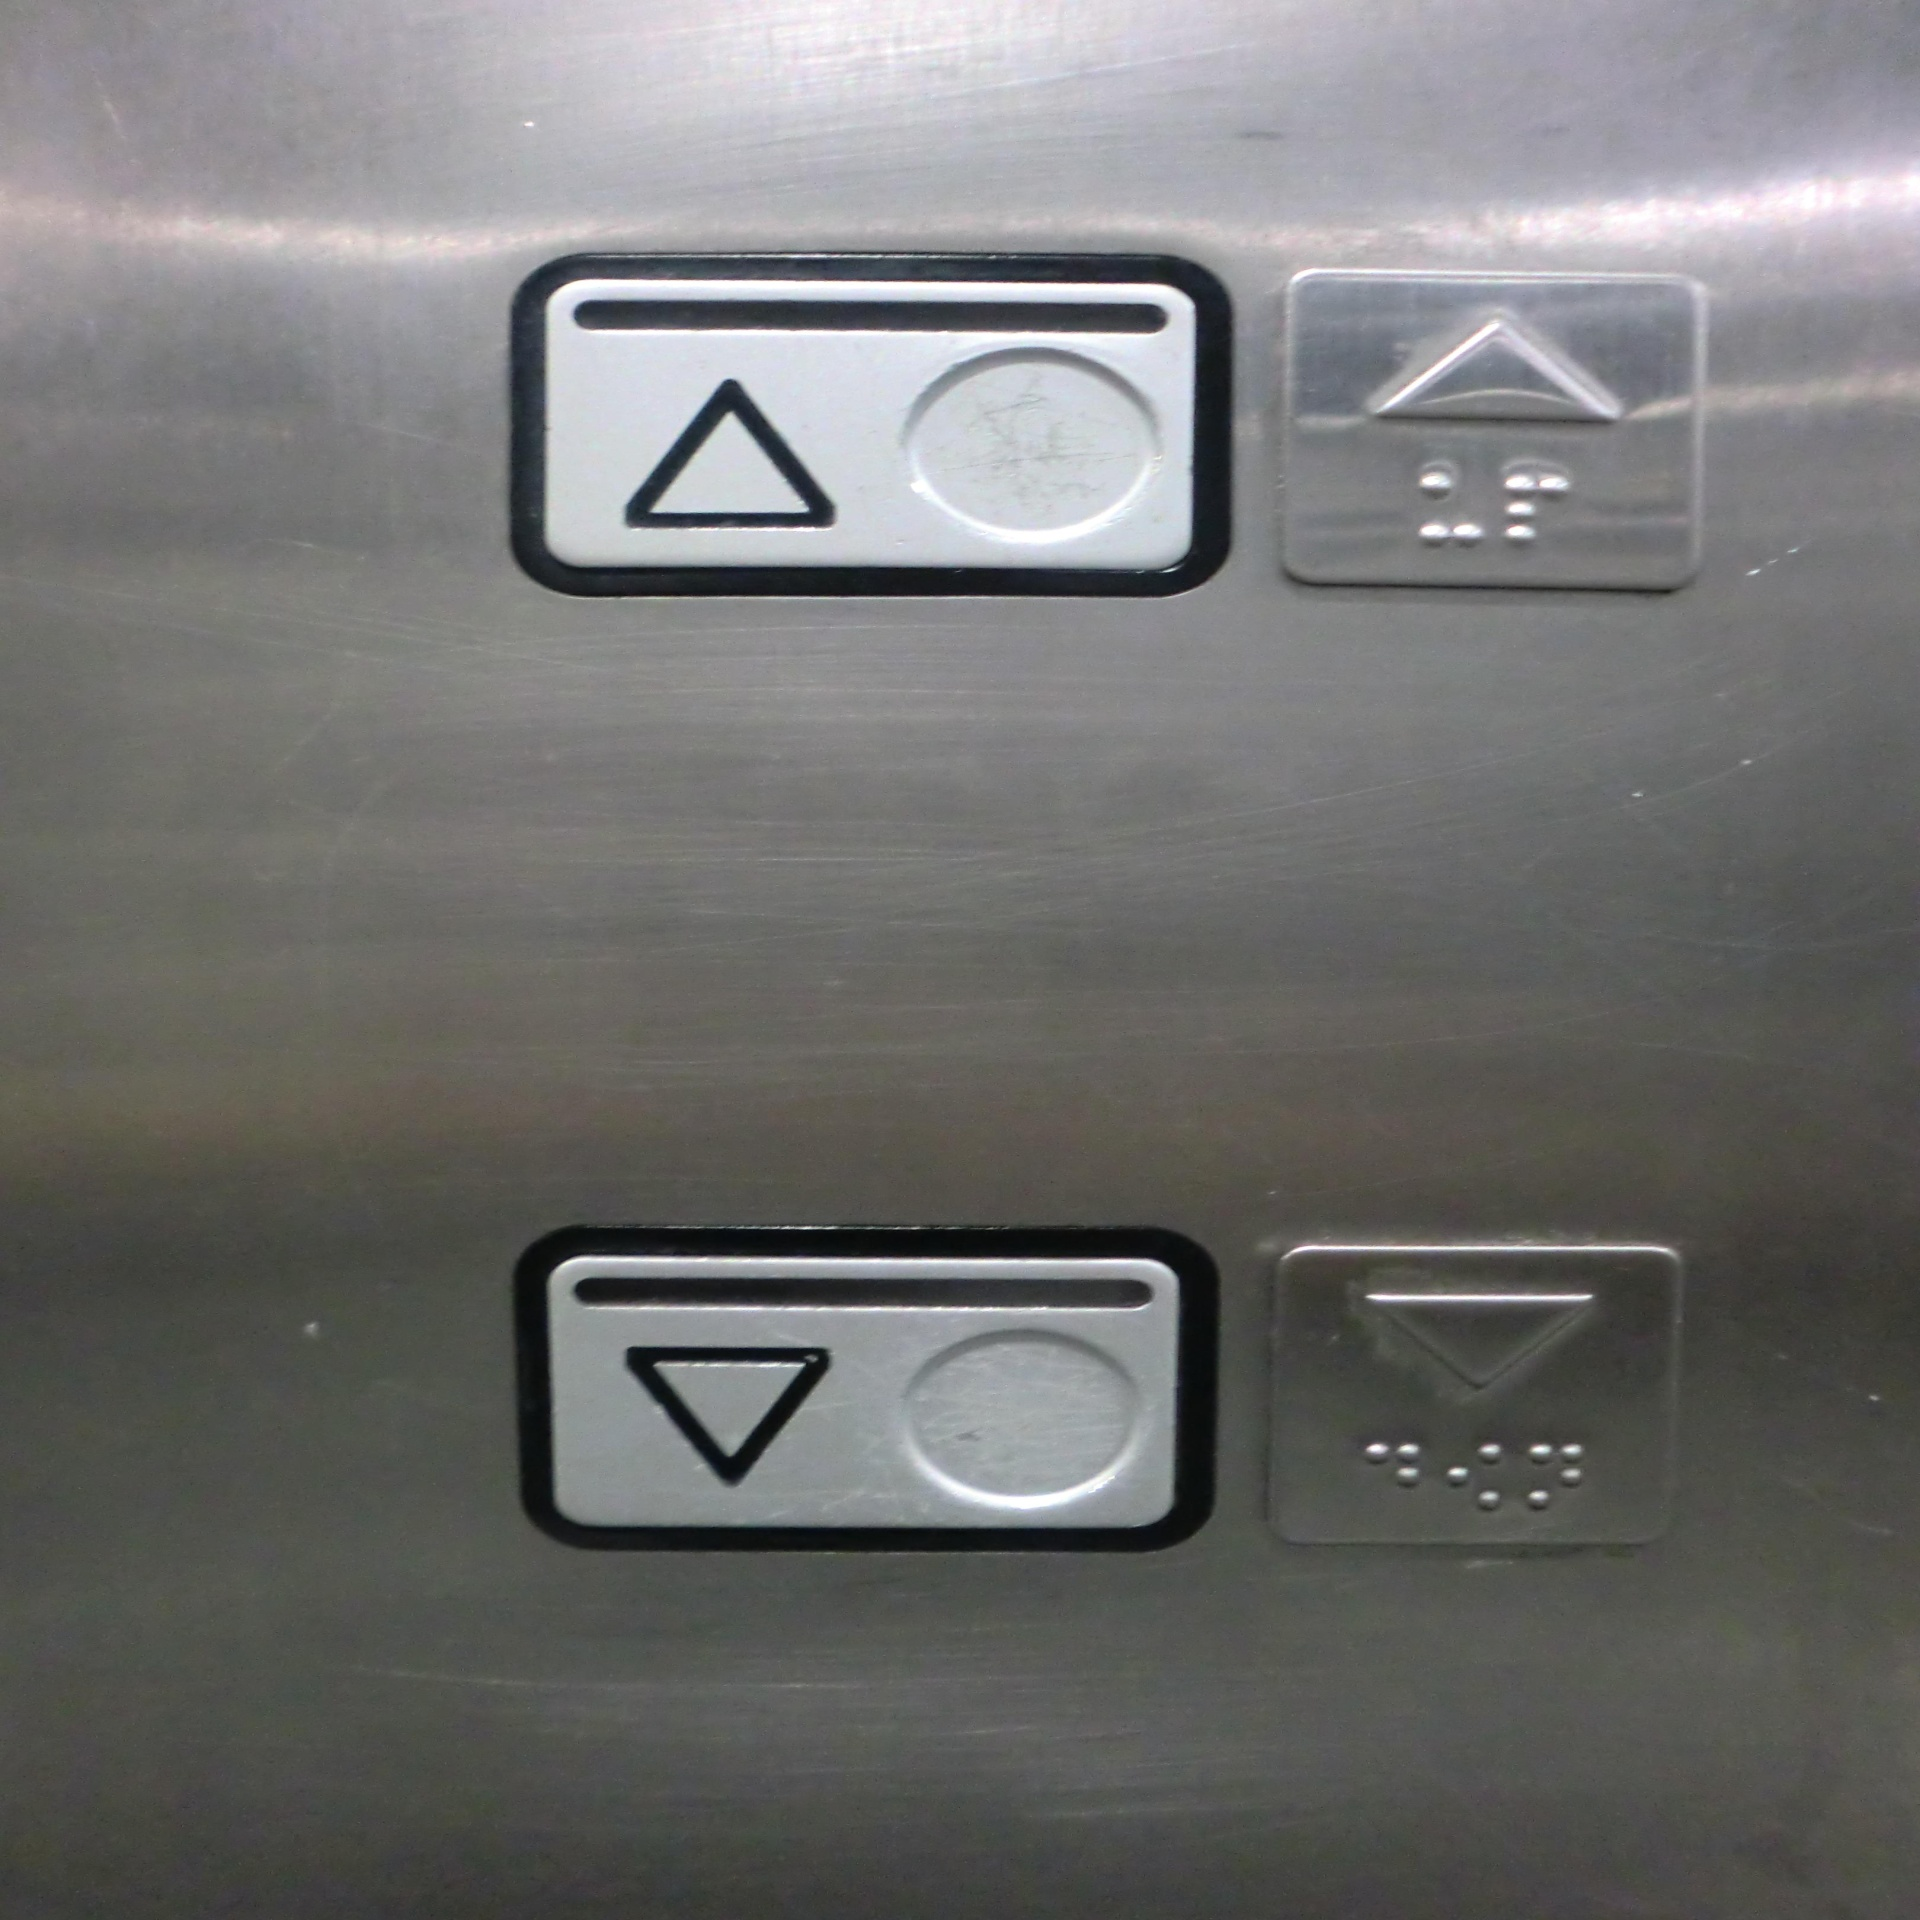down: (496, 1203, 1233, 1561), (1243, 1210, 1730, 1588)
up: (491, 234, 1240, 619), (1252, 241, 1737, 619)
